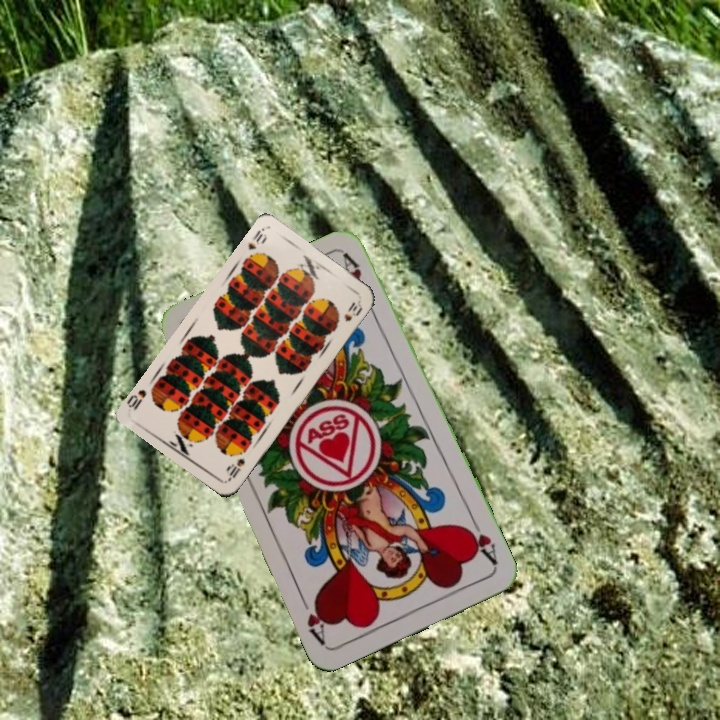HA: (461, 514, 500, 568)
S10: (222, 454, 248, 484), (244, 225, 270, 253)
